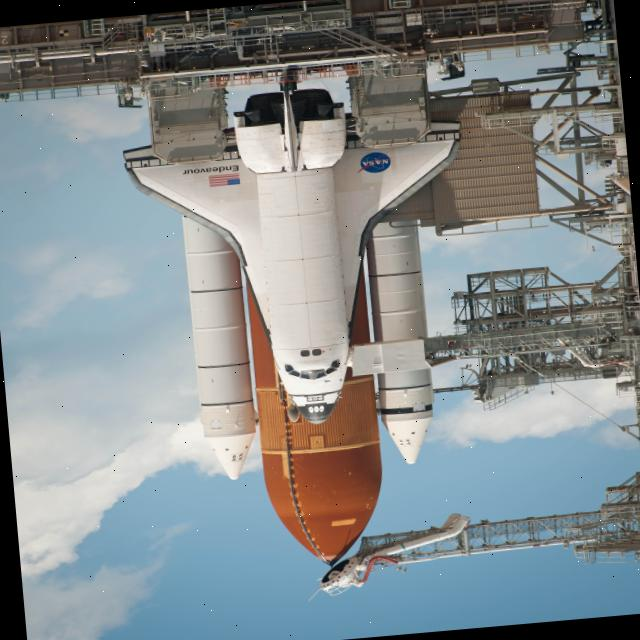rocket: (111, 80, 479, 430)
